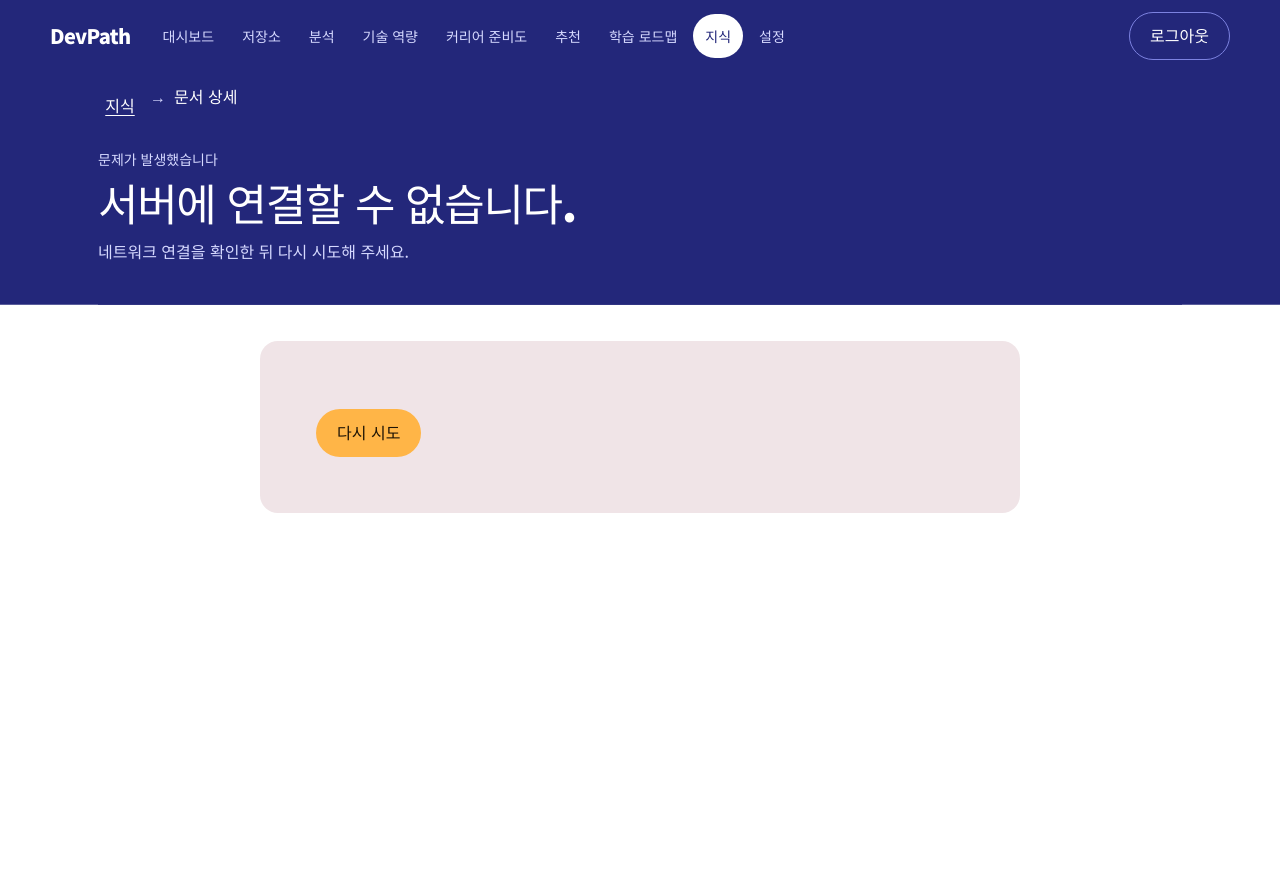
Test case: announces a load failure and retries both resources
Expected: the heading "서버에 연결할 수 없습니다." is shown, x1=98 y1=170 x2=576 y2=234
Click the button "다시 시도" at (369, 433), box x1=316 y1=409 x2=421 y2=457
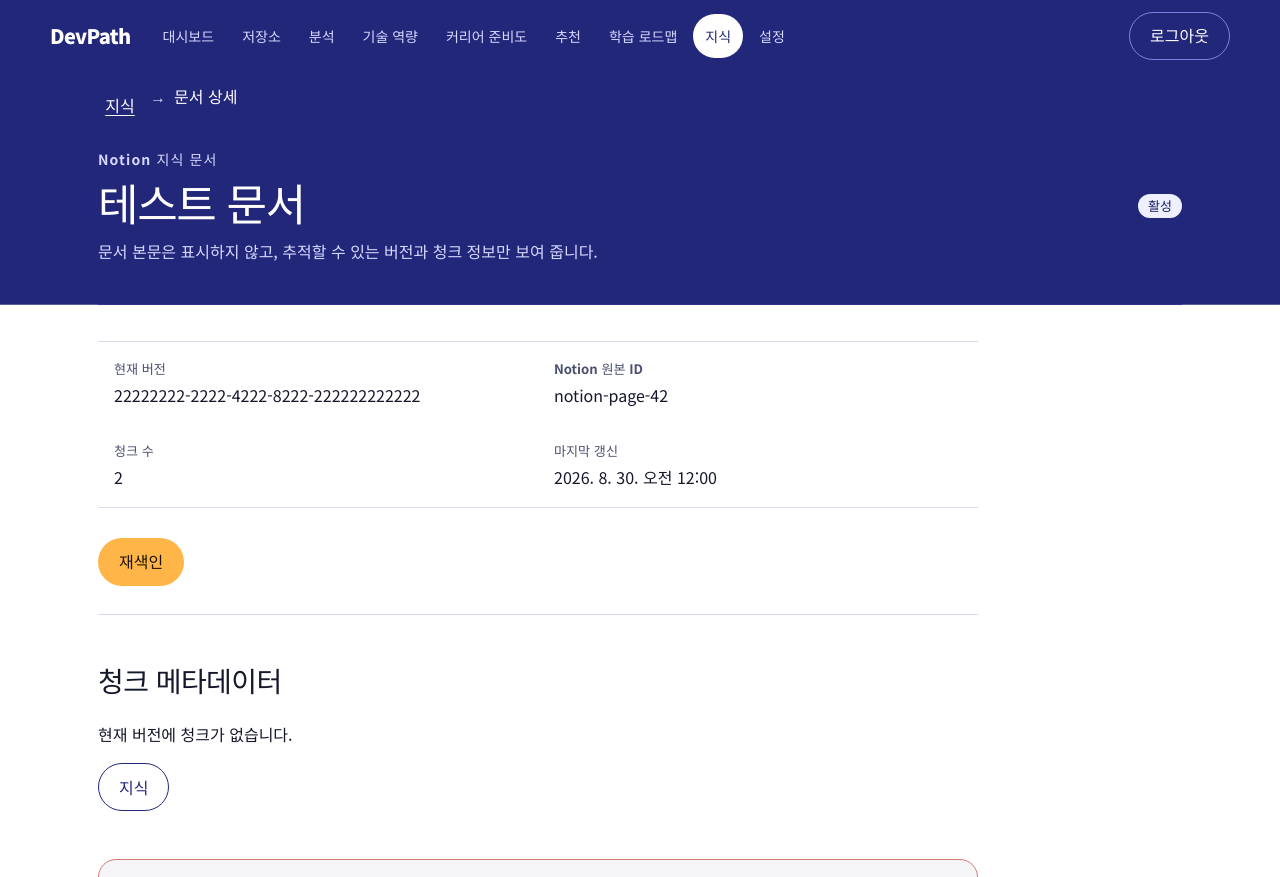
Expected: the heading "테스트 문서" is shown, x1=98 y1=170 x2=305 y2=234
